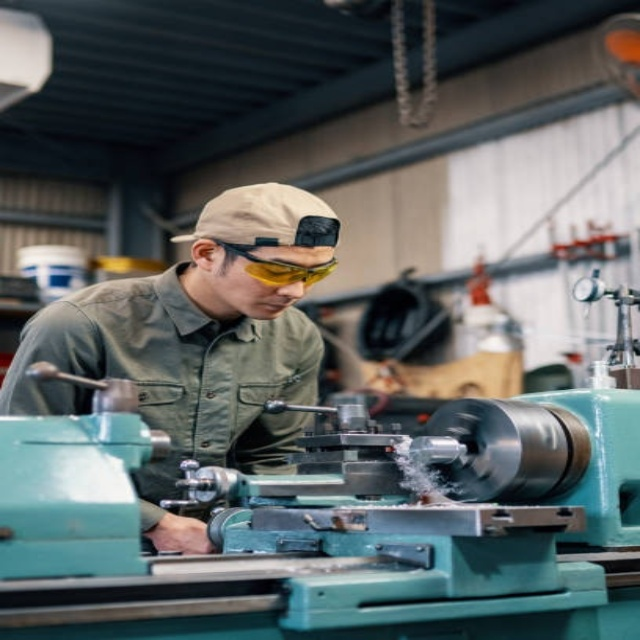Gafas: (214, 239, 341, 286)
Sin_guantes: (142, 512, 217, 556)
Sin_mascara: (234, 296, 303, 320)
